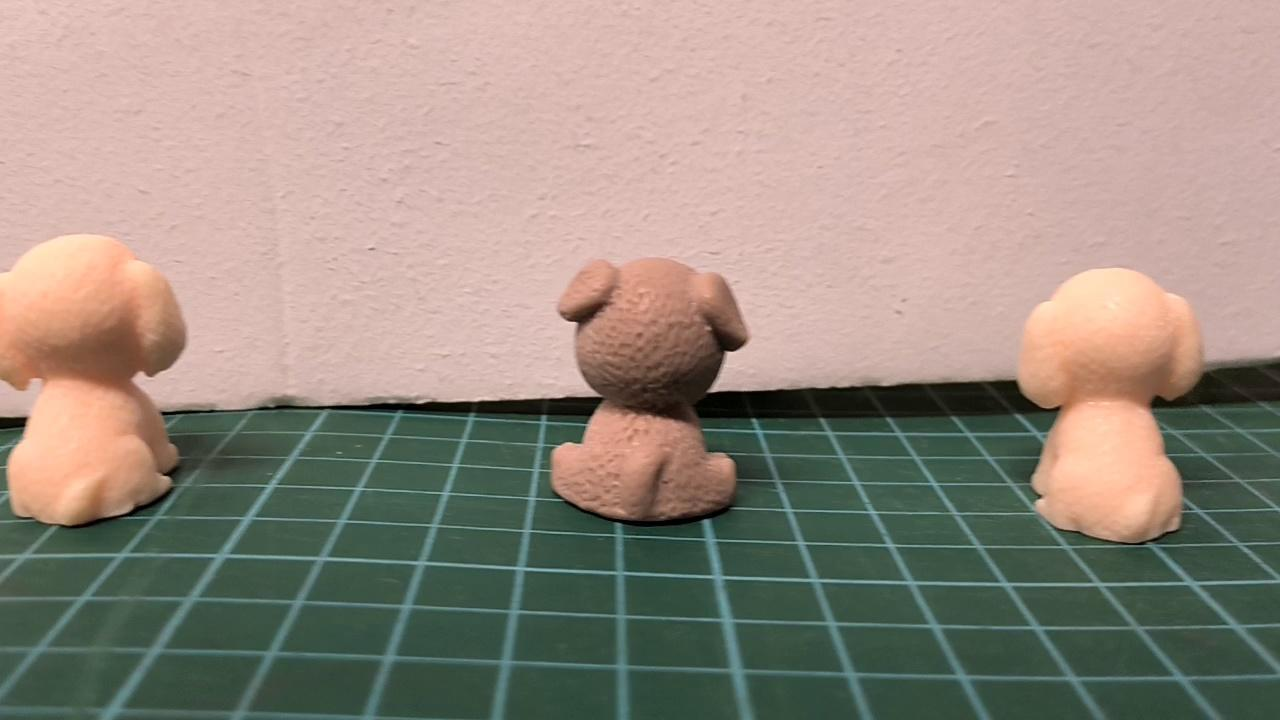pet: (0, 234, 188, 527), (551, 258, 748, 524), (1019, 263, 1206, 543)
